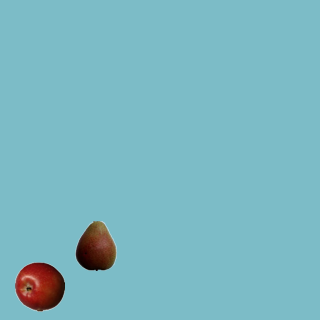Apple Braeburn: (14, 261, 64, 311)
Pear Forelle: (70, 220, 120, 270)
